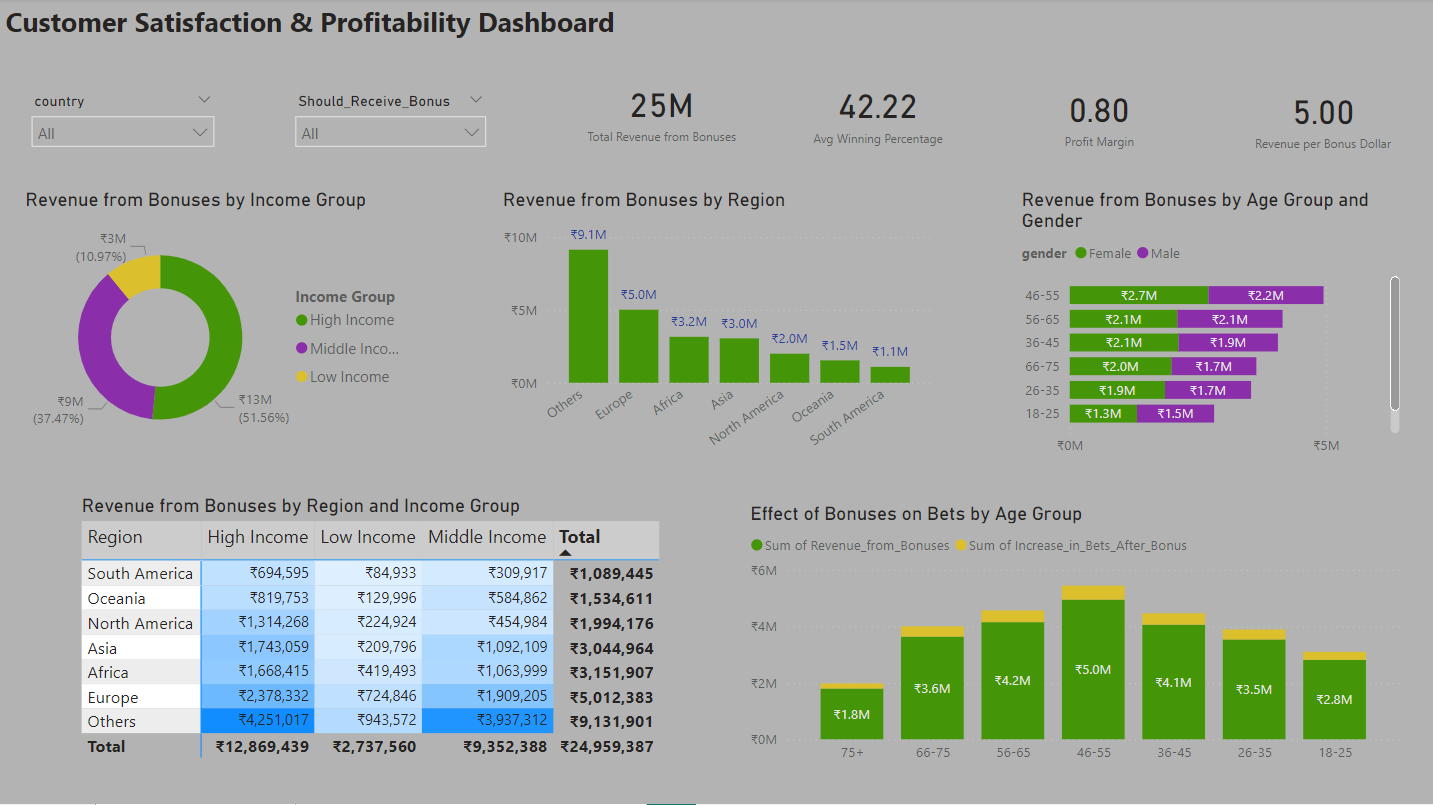

The page's visual inventory and layout, read from the dashboard file:
{"tool":"powerbi","page":{"name":"Customer Satisfaction and Profitability Dashboard","canvas":[1280,720],"ordinal":1},"visuals":[{"type":"barChart","title":"Revenue from Bonuses by Age Group and Gender","fields":{"Category":["clean_data.Age Group"],"Y":["Sum(clean_data.Revenue_from_Bonuses)"],"Series":["clean_data.gender"]},"box":[907.5,170.2,347.7,248.2],"z":0},{"type":"donutChart","title":"Revenue from Bonuses by Income Group","fields":{"Y":["Sum(clean_data.Revenue_from_Bonuses)"],"Category":["clean_data.Income Group"]},"box":[17.3,170.2,354.9,248.2],"z":1000},{"type":"pivotTable","title":"Revenue from Bonuses by Region and Income Group","fields":{"Values":["Sum(clean_data.Revenue_from_Bonuses)"],"Rows":["clean_data.Region"],"Columns":["clean_data.Income Group"]},"box":[67.8,442.9,572.8,258.3],"z":2000},{"type":"columnChart","title":"Revenue from Bonuses by Region","fields":{"Category":["clean_data.Region"],"Y":["Sum(clean_data.Revenue_from_Bonuses)"]},"box":[444.4,170.2,392.4,248.2],"z":3000},{"type":"columnChart","title":"Effect of Bonuses on Bets by Age Group","fields":{"Category":["clean_data.Age Group"],"Y":["Sum(clean_data.Revenue_from_Bonuses)","Sum(clean_data.Increase_in_Bets_After_Bonus)"]},"box":[665.1,450.1,590.1,242.4],"z":4000},{"type":"card","fields":{"Values":["clean_data.Total Revenue from Bonuses"]},"box":[516.5,56.3,148.6,89.5],"z":5000},{"type":"card","fields":{"Values":["clean_data.Avg Winning Percentage"]},"box":[709.8,53.4,148.6,96.7],"z":6000},{"type":"card","fields":{"Values":["clean_data.Profit Margin"]},"box":[907.5,54.8,148.6,101],"z":7000},{"type":"card","fields":{"Values":["clean_data.Revenue per Bonus Dollar"]},"box":[1107.2,56.7,148.5,99.9],"z":8000},{"type":"slicer","fields":{"Values":["clean_data.country"]},"box":[17.3,79.4,183.2,66.4],"z":9000},{"type":"slicer","fields":{"Values":["clean_data.Should_Receive_Bonus"]},"box":[253.9,79.4,190.4,66.4],"z":10000},{"type":"textbox","box":[0,0,577.1,53.4],"z":11000}]}

Visuals, with their boxes in screenshot pixels (x1, y1, x2, y2), scaled from the page's 1280x720 canvas onto the 1433x805 screenshot:
"Revenue from Bonuses by Age Group and Gender" barChart: {"left": 1016, "top": 190, "right": 1405, "bottom": 468}
"Revenue from Bonuses by Income Group" donutChart: {"left": 19, "top": 190, "right": 417, "bottom": 468}
"Revenue from Bonuses by Region and Income Group" pivotTable: {"left": 76, "top": 495, "right": 717, "bottom": 784}
"Revenue from Bonuses by Region" columnChart: {"left": 498, "top": 190, "right": 937, "bottom": 468}
"Effect of Bonuses on Bets by Age Group" columnChart: {"left": 745, "top": 503, "right": 1405, "bottom": 774}
card - clean_data.Total Revenue from Bonuses: {"left": 578, "top": 63, "right": 745, "bottom": 163}
card - clean_data.Avg Winning Percentage: {"left": 795, "top": 60, "right": 961, "bottom": 168}
card - clean_data.Profit Margin: {"left": 1016, "top": 61, "right": 1182, "bottom": 174}
card - clean_data.Revenue per Bonus Dollar: {"left": 1240, "top": 63, "right": 1406, "bottom": 175}
slicer - clean_data.country: {"left": 19, "top": 89, "right": 224, "bottom": 163}
slicer - clean_data.Should_Receive_Bonus: {"left": 284, "top": 89, "right": 497, "bottom": 163}
textbox: {"left": 0, "top": 0, "right": 646, "bottom": 60}
